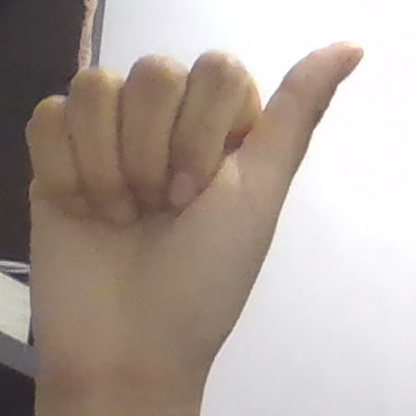A: (25, 43, 363, 381)
